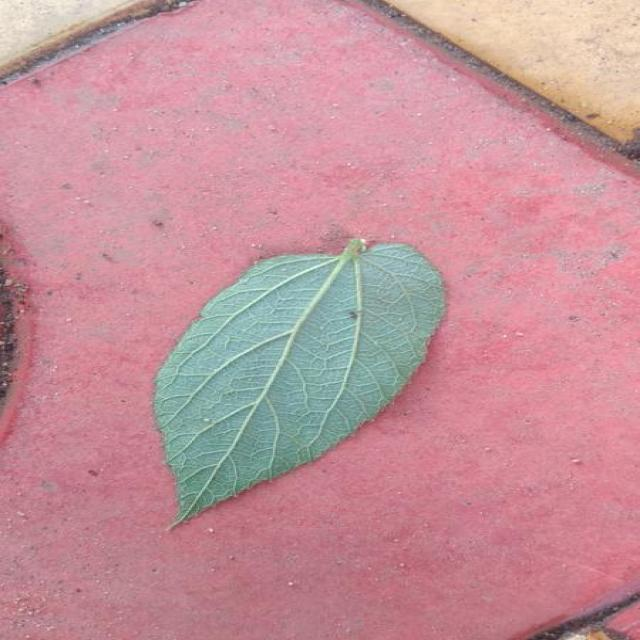gasagase: (155, 239, 445, 524)
